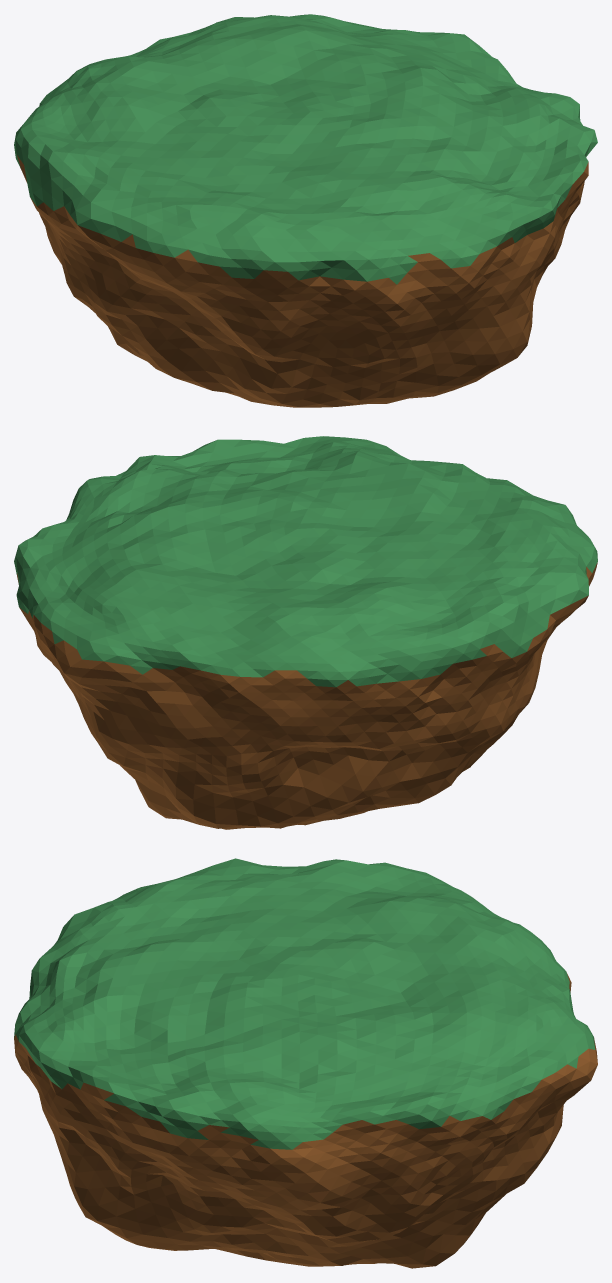
Rendered from forest_island_10fbx.fbx.
3 renders of one model, top to bottom at view 1: azimuth 30°, elevation 25°; view 2: azimuth 150°, elevation 25°; view 3: azimuth 270°, elevation 25°, orthographic.
Parts seen in each view (by area): view 1: Icosphere.027; view 2: Icosphere.027; view 3: Icosphere.027.
Boxes of the visible parts, bbox=[...] form: Icosphere.027: bbox=[14, 14, 597, 407]; Icosphere.027: bbox=[14, 436, 597, 829]; Icosphere.027: bbox=[14, 858, 597, 1268].
Size of the model in its own units: 4899 by 2551 by 4864.
